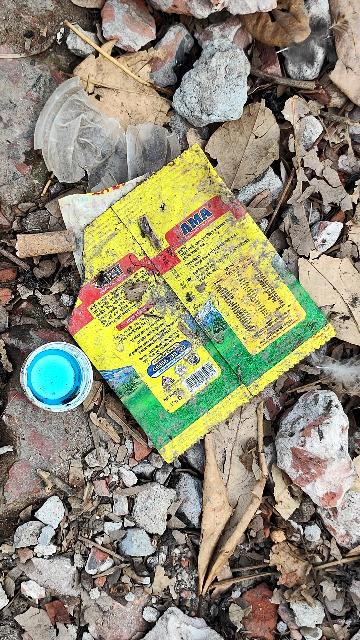packet: (12, 115, 360, 468)
